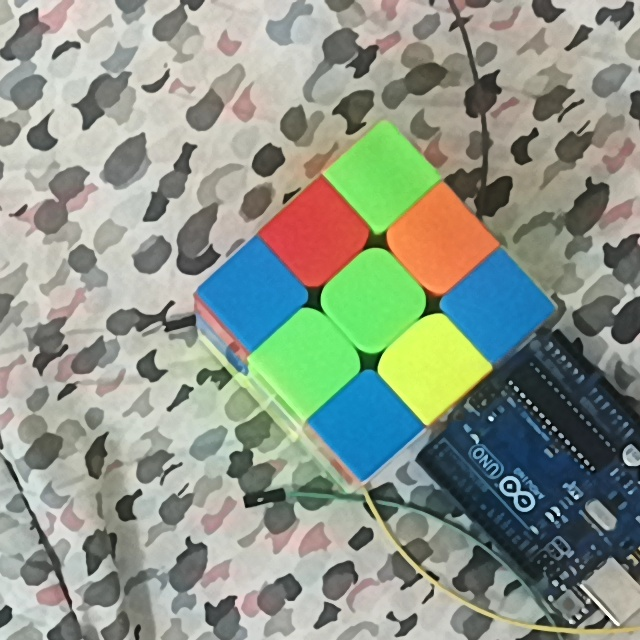tile: (346, 267, 403, 332), (407, 211, 469, 268), (469, 277, 526, 335), (404, 335, 459, 395), (335, 397, 393, 453), (352, 150, 408, 206), (279, 332, 335, 388), (293, 208, 349, 263), (229, 268, 282, 323)
